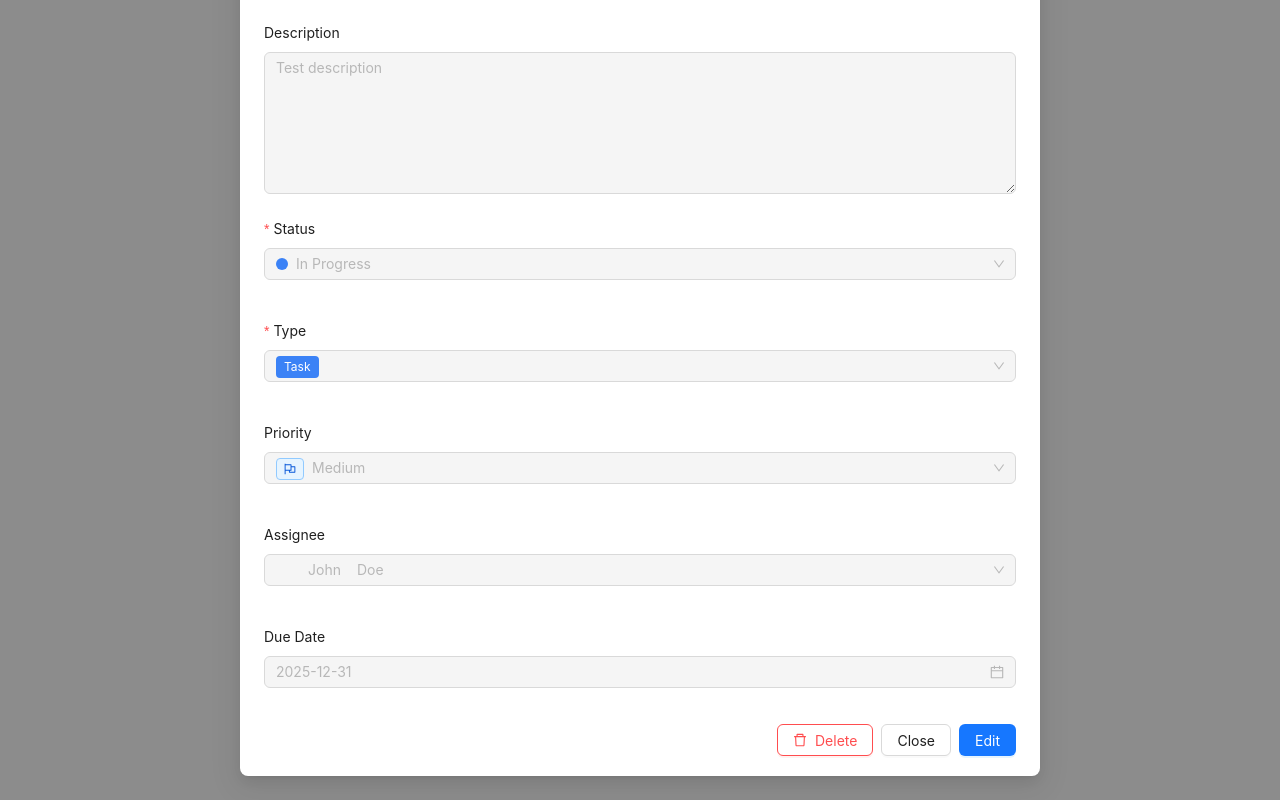
Scenario: TaskModal › form inputs are enabled in edit mode
The width and height of the screenshot is (1280, 800).
(page scrolled)
Click the button "Edit" at (988, 740), box [959,724,1016,756]
(page scrolled)
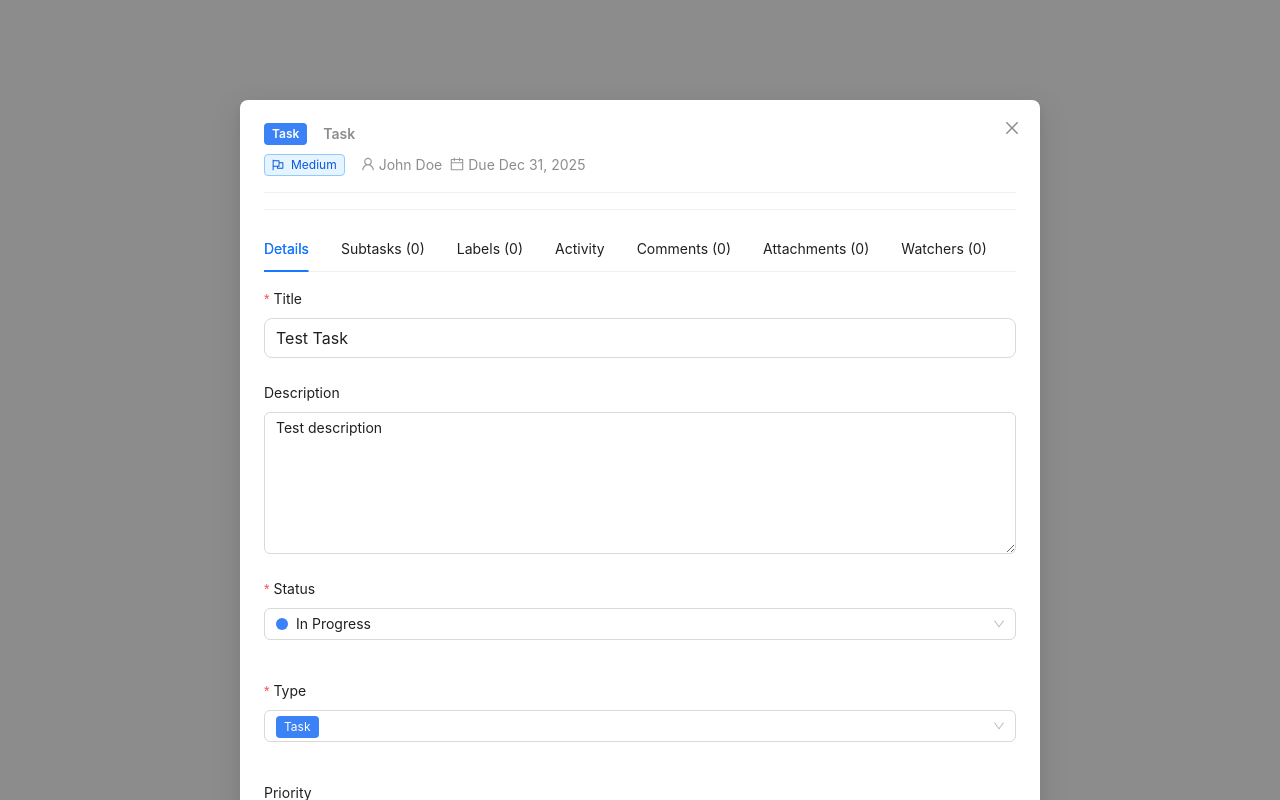
Check: the field showing "Test Task" is enabled, box [264,318,1016,358]
